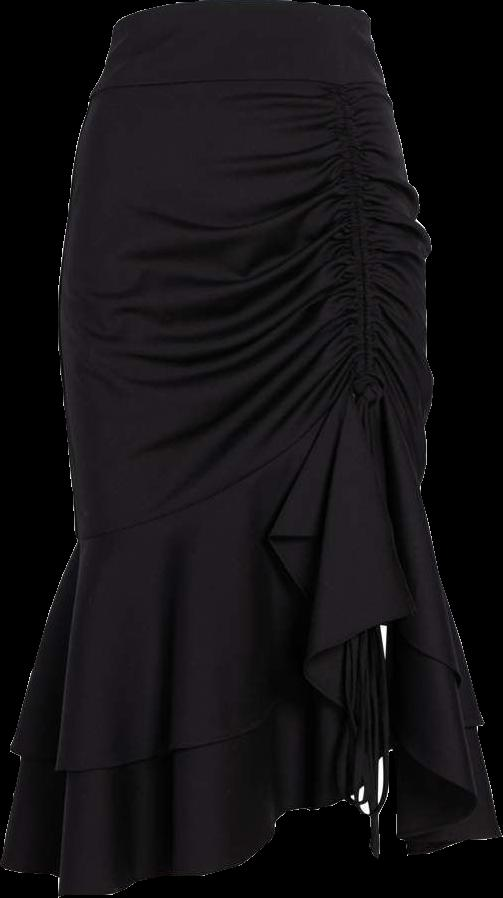Hemline: (0, 608, 502, 897)
Waistline: (69, 369, 425, 537), (108, 0, 369, 28), (89, 75, 389, 95)
